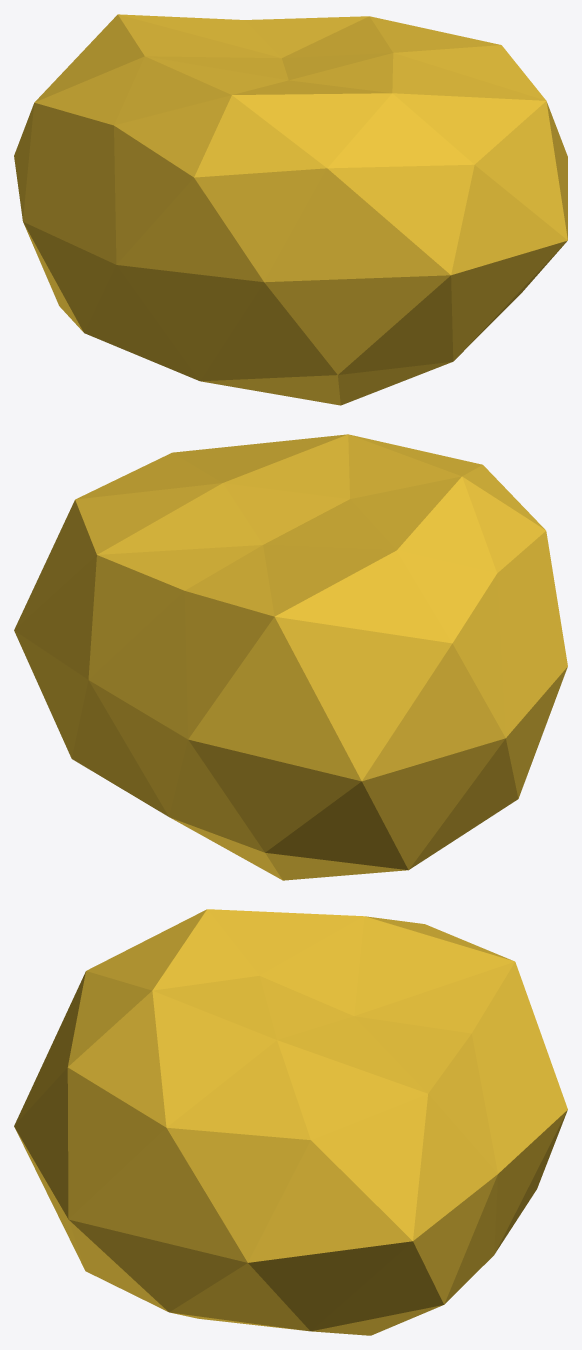
The model's file is ore_basic.fbx.
3 renders of one model, top to bottom at view 1: azimuth 30°, elevation 25°; view 2: azimuth 150°, elevation 25°; view 3: azimuth 270°, elevation 25°, orthographic. The views are drawn at different scales.
Visible parts, largest first — view 1: Icosphere; view 2: Icosphere; view 3: Icosphere.
Part boxes in pixels (x1,y1,x2,y2): Icosphere: [14, 14, 567, 405]; Icosphere: [14, 434, 567, 880]; Icosphere: [14, 909, 567, 1335].
Size of the model in its own units: 215 by 139 by 204.
